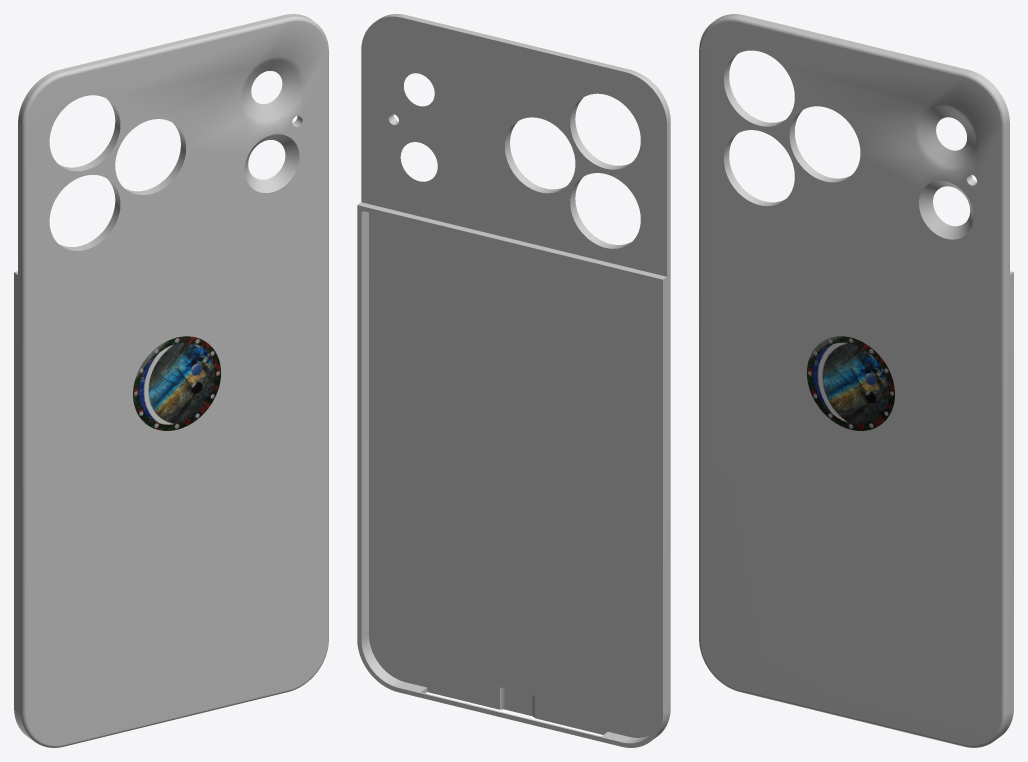
The model's file is silver-standard-shield.glb.
3 renders of one model, left to right at view 1: azimuth 30°, elevation 25°; view 2: azimuth 150°, elevation 25°; view 3: azimuth 330°, elevation 25°, orthographic.
Visible parts, largest first — view 1: housing, inlay; view 2: housing; view 3: housing, inlay.
Part boxes in pixels (bbox=[...]): housing: bbox=[14, 14, 328, 747]; inlay: bbox=[133, 336, 220, 430]; housing: bbox=[357, 14, 670, 747]; housing: bbox=[699, 14, 1013, 747]; inlay: bbox=[807, 336, 894, 430].
Size of the model in its own units: 0.0711 by 0.1492 by 0.00378.
2 materials, 1 textured.
